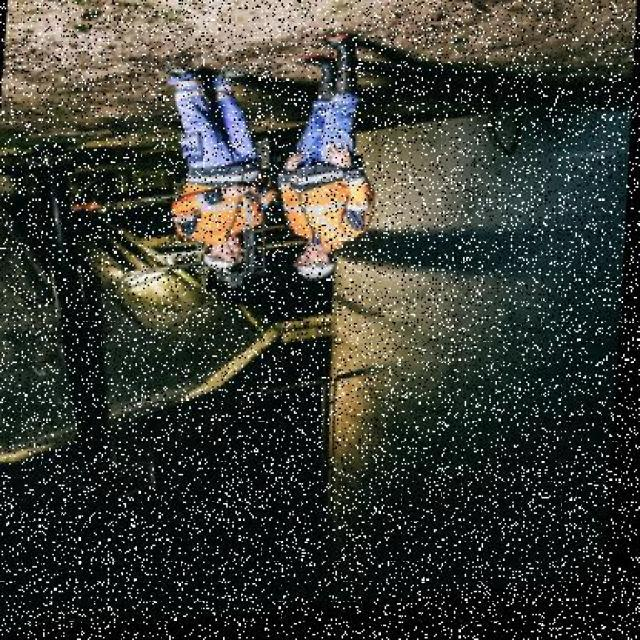vest: (272, 152, 366, 256), (168, 158, 267, 248)
